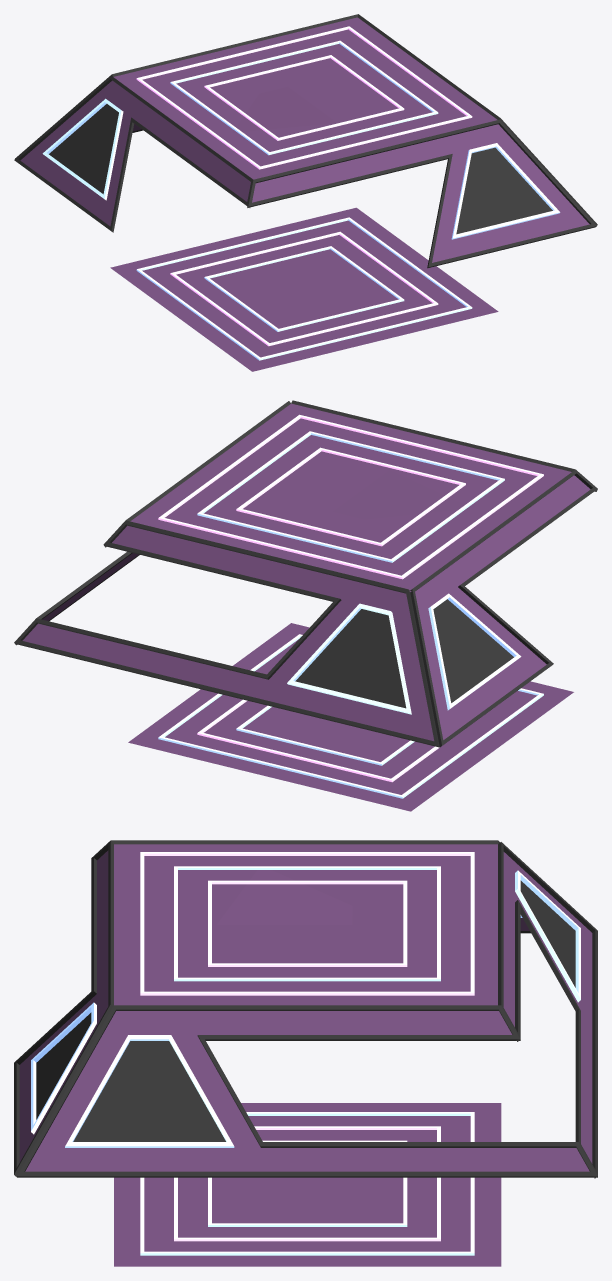
3 views of the same model, one above another, from view 1: azimuth 30°, elevation 25°; view 2: azimuth 150°, elevation 25°; view 3: azimuth 270°, elevation 25° (orthographic). The views are drawn at different scales.
Visible parts, largest first — view 1: room; view 2: room; view 3: room.
Part boxes in pixels (x1=…): room: x1=14, y1=14, x2=597, y2=371; room: x1=14, y1=400, x2=597, y2=811; room: x1=14, y1=840, x2=597, y2=1266.
Size of what is drawn, in the model's own units: 7.33 by 3.64 by 7.33.
